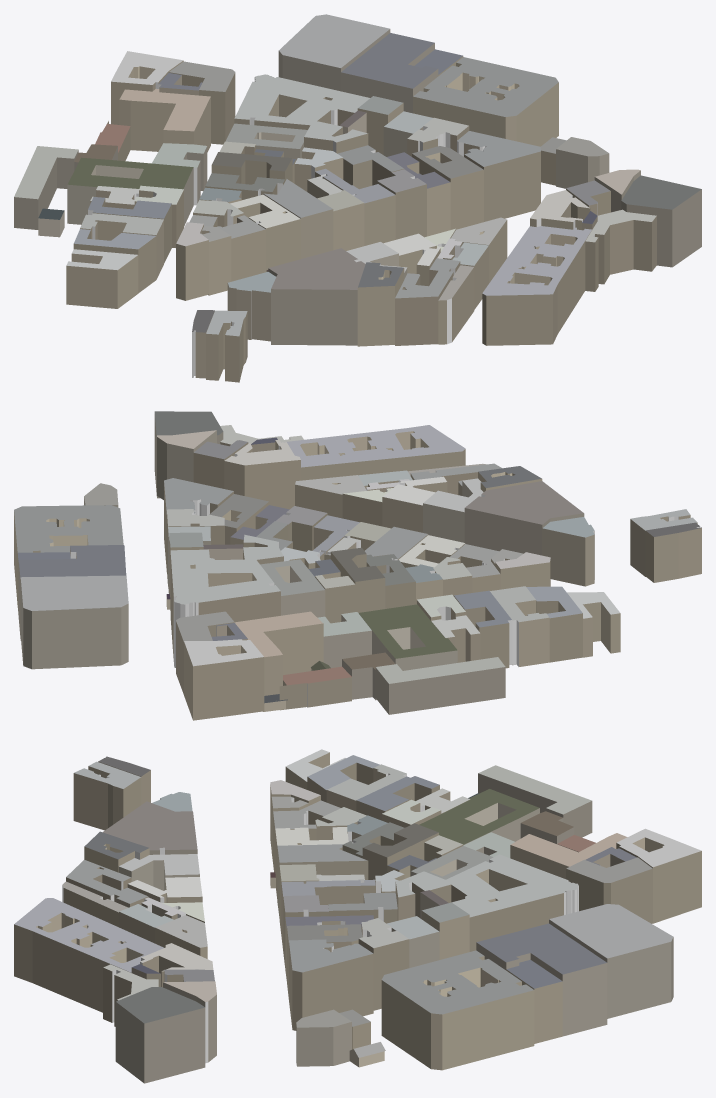
3 renders of one model, top to bottom at view 1: azimuth 30°, elevation 25°; view 2: azimuth 150°, elevation 25°; view 3: azimuth 270°, elevation 25°, orthographic. The views are drawn at different scales.
Parts seen in each view (by area): view 1: tuile; view 2: tuile; view 3: tuile.
Boxes of the visible parts, x1=… form: tuile: x1=14, y1=14, x2=701, y2=382; tuile: x1=14, y1=411, x2=701, y2=720; tuile: x1=14, y1=749, x2=701, y2=1083.
Bounding box in the file's own units: 277 × 37.77 × 289.
